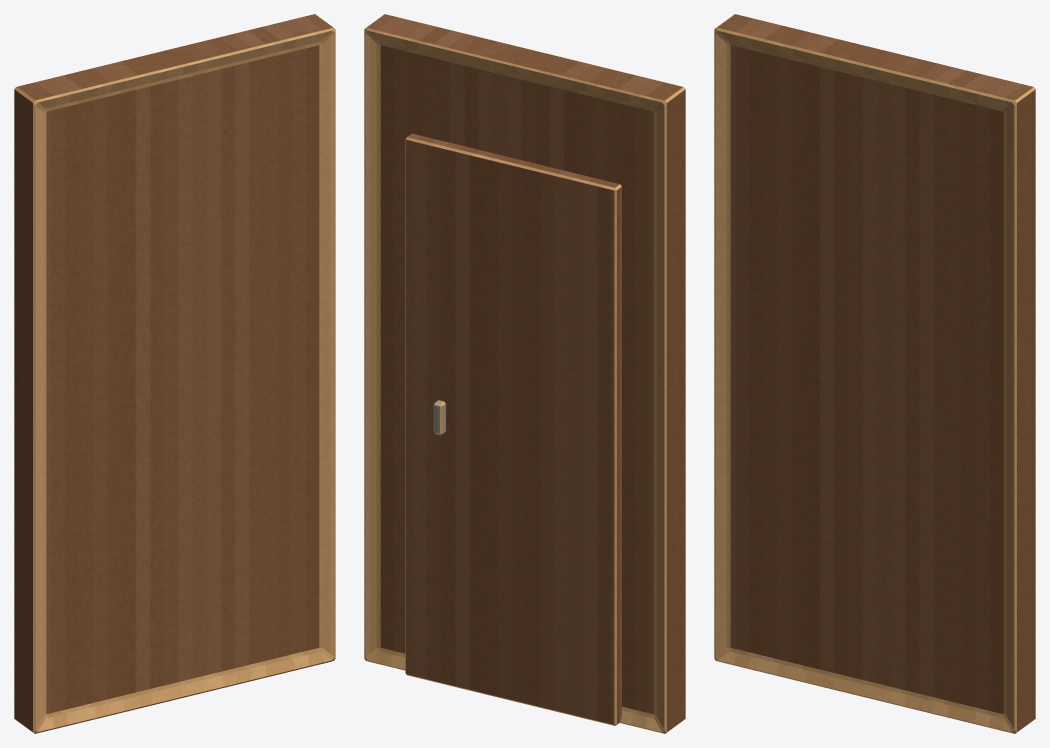
The model's file is sm_farm_door.glb.
3 views of the same model, side by side, from view 1: azimuth 30°, elevation 25°; view 2: azimuth 150°, elevation 25°; view 3: azimuth 330°, elevation 25° (orthographic).
Parts seen in each view (by area): view 1: sm_farm_door; view 2: sm_farm_door; view 3: sm_farm_door.
Boxes of the visible parts, x1,y1,x2,y2 form: sm_farm_door: [14, 14, 335, 733]; sm_farm_door: [364, 14, 685, 733]; sm_farm_door: [714, 14, 1035, 733].
Size of the model in its own units: 1 by 2 by 0.173.
1 material, 1 textured.
